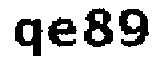8: (81, 5, 116, 50)
9: (117, 6, 149, 52)
e: (47, 16, 77, 52)
q: (12, 16, 45, 60)
